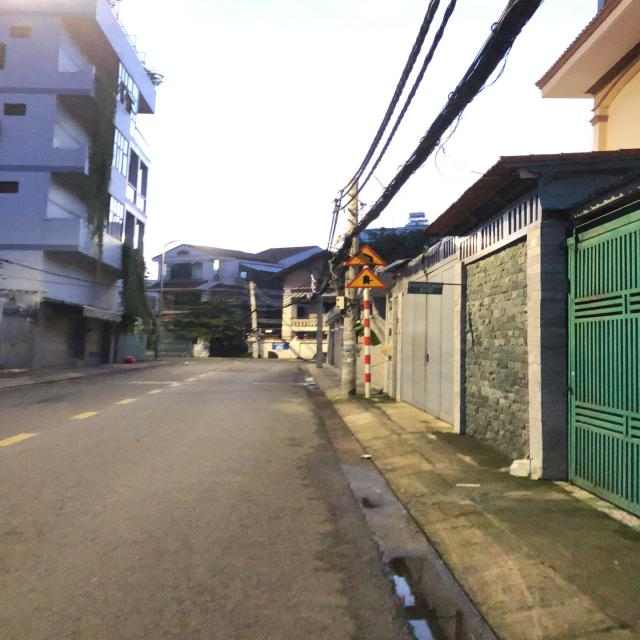Bien bao cho ngoat nguy hiem: (337, 242, 391, 265)
Bien bao giao nhau voi duong khong uu tien: (340, 268, 392, 290)
